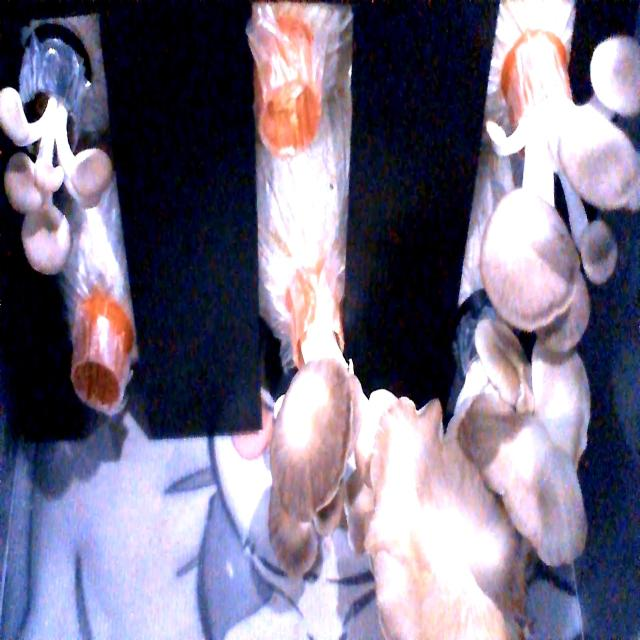big: (368, 372, 592, 640), (478, 21, 640, 378), (272, 348, 382, 587)
nfound: (258, 77, 324, 165), (69, 341, 127, 432)
small: (0, 62, 124, 283)
